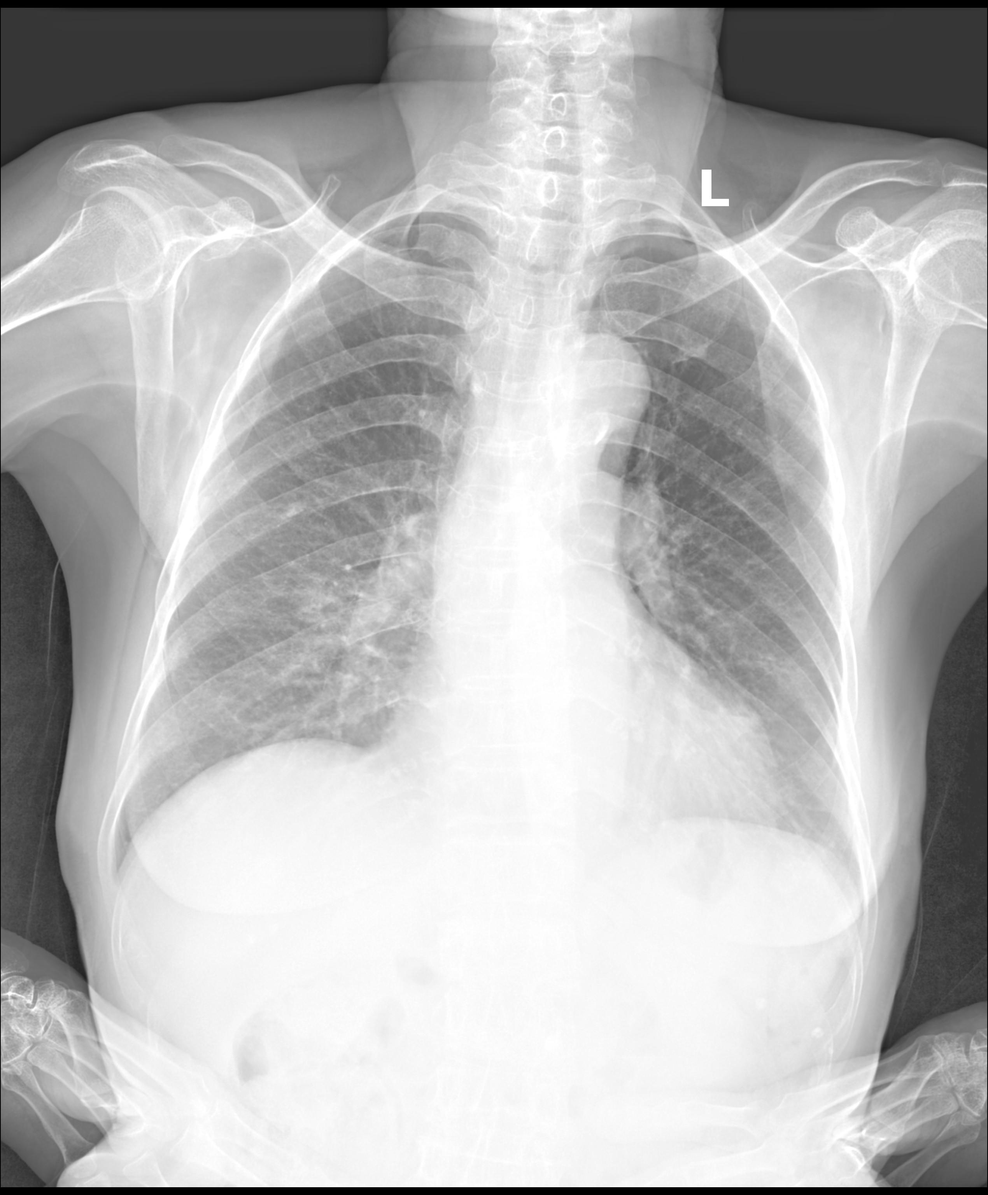Aortic enlargement: (546, 332, 651, 444)
Cardiomegaly: (377, 683, 784, 834)
Pleural thickening: (609, 232, 712, 280)
